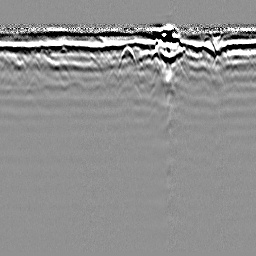cavity: (118, 42, 137, 69)
